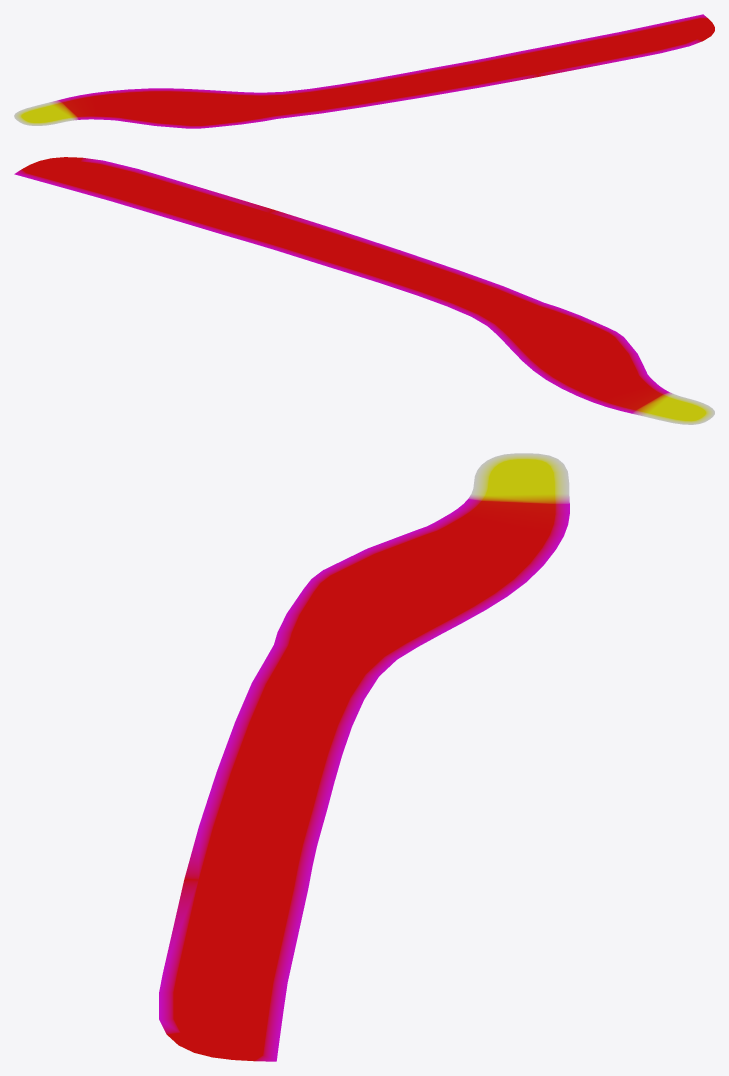
Rendered from ENV_WaterPlane.FBX.
3 views of the same model, one above another, from view 1: azimuth 30°, elevation 25°; view 2: azimuth 150°, elevation 25°; view 3: azimuth 270°, elevation 25° (orthographic). The views are drawn at different scales.
Parts seen in each view (by area): view 1: ENV_WaterPlane; view 2: ENV_WaterPlane; view 3: ENV_WaterPlane.
Part boxes in pixels (x1,y1,x2,y2): ENV_WaterPlane: (14,14,714,128); ENV_WaterPlane: (14,157,714,424); ENV_WaterPlane: (159,453,569,1061).
Size of the model in its own units: 6851 by 1.21e-13 by 1955.
